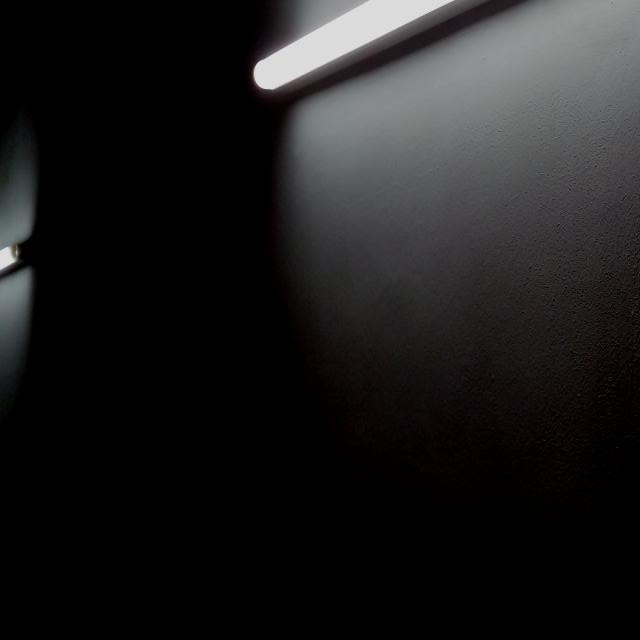fluorescent tube: (217, 0, 640, 115), (0, 150, 42, 324)
